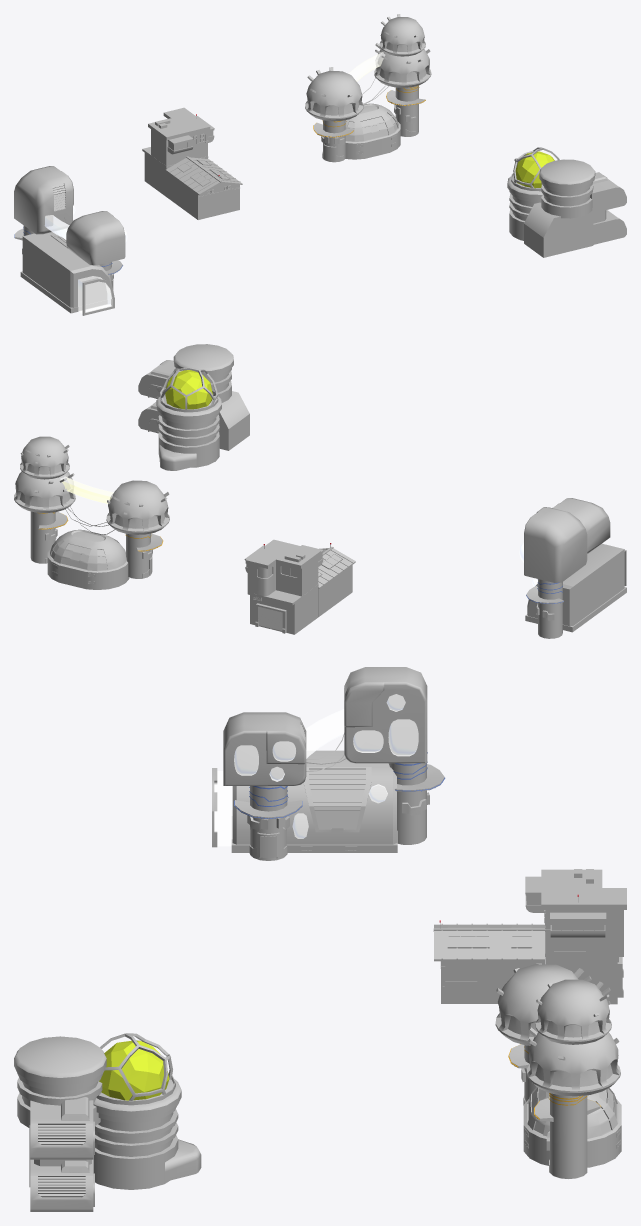
Rendered from Plaza_02_Buildings.fbx.
3 renders of one model, top to bottom at view 1: azimuth 30°, elevation 25°; view 2: azimuth 150°, elevation 25°; view 3: azimuth 270°, elevation 25°, orthographic. The views are drawn at different scales.
Parts seen in each view (by area): view 1: light1, glass1, glass; view 2: light1, glass; view 3: light1, glass1.
Boxes of the visible parts, bbox=[...] form: light1: bbox=[14, 14, 626, 315]; glass1: bbox=[45, 206, 127, 313]; glass: bbox=[348, 52, 385, 81]; light1: bbox=[14, 344, 626, 638]; glass: bbox=[60, 476, 113, 503]; light1: bbox=[14, 667, 626, 1211]; glass1: bbox=[214, 694, 418, 846].
Size of the model in its own units: 269 by 59.37 by 176.
